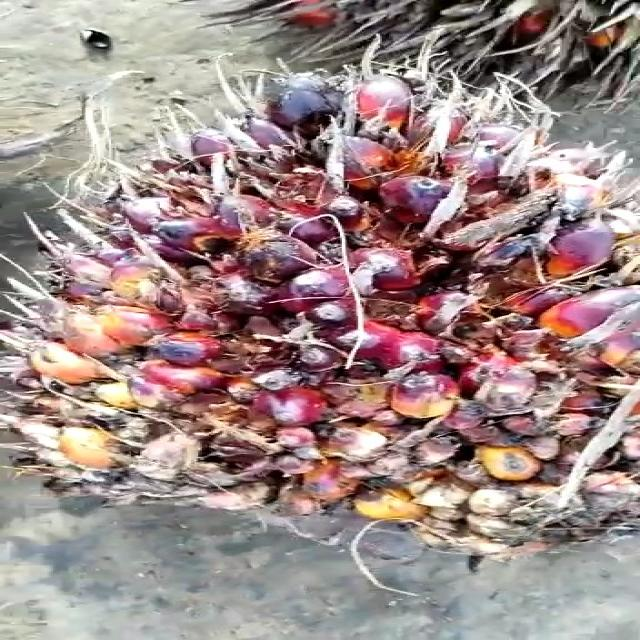palm oil: (7, 28, 640, 557)
